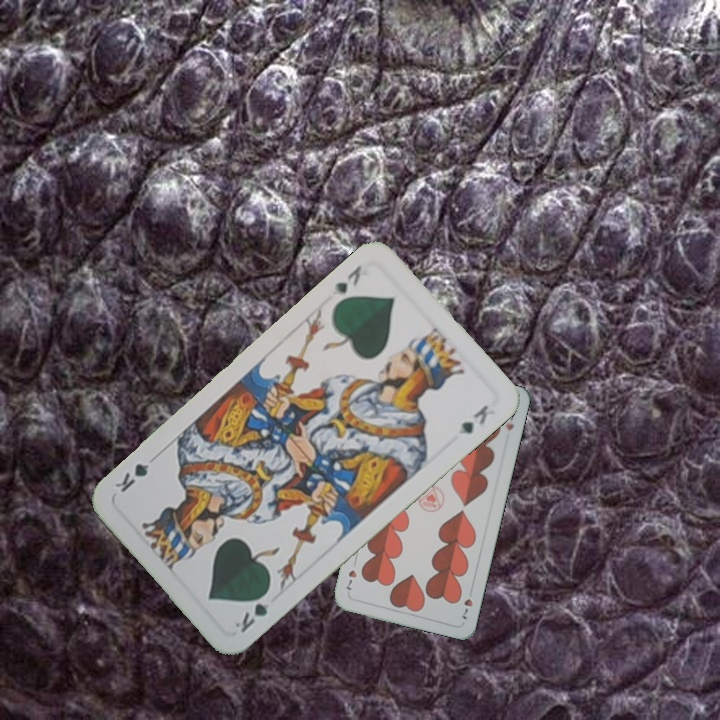GK: (230, 585, 273, 636), (328, 261, 365, 300)
H7: (457, 584, 476, 622)
